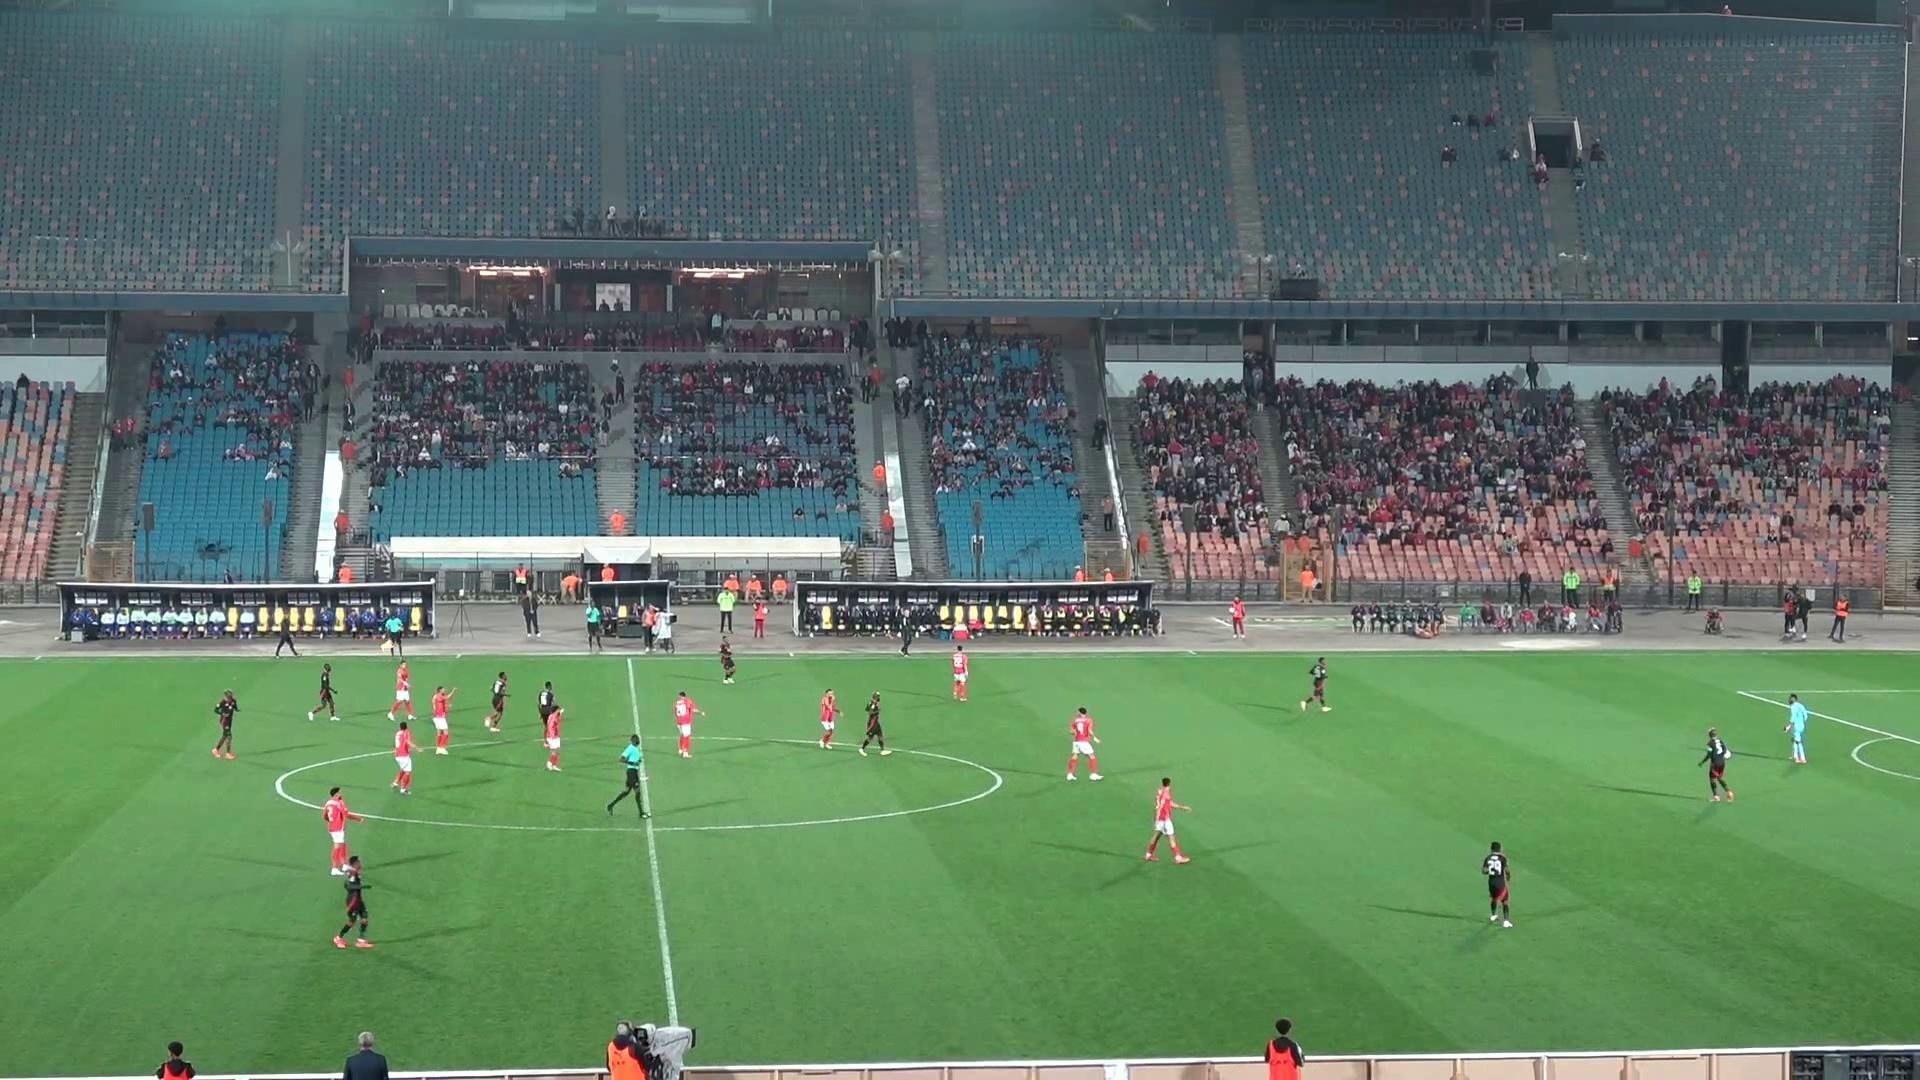Ball: (1726, 748, 1735, 766)
GK2: (1784, 694, 1809, 764)
Refree: (605, 733, 647, 818), (582, 595, 607, 651), (380, 609, 407, 655)
Team1: (320, 789, 364, 876), (1145, 778, 1189, 862), (1065, 707, 1101, 779), (673, 692, 699, 758), (386, 661, 414, 721), (393, 720, 414, 794), (431, 686, 454, 754), (541, 702, 562, 771), (818, 688, 839, 749), (952, 629, 968, 702)
Team2: (332, 855, 371, 948), (1480, 843, 1511, 926), (1698, 727, 1733, 800), (211, 690, 239, 758), (858, 692, 889, 754), (309, 662, 338, 720), (483, 673, 508, 733), (1300, 659, 1329, 709), (537, 680, 560, 723), (719, 636, 736, 684)
